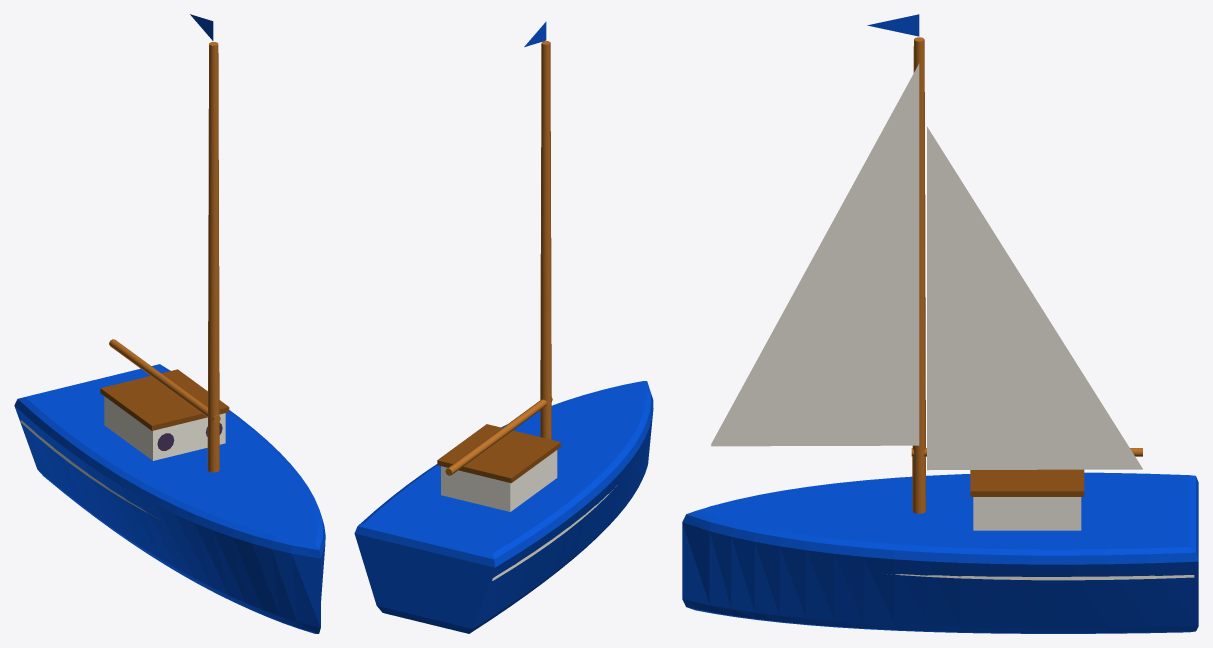
The model's file is voilier-bleu.glb.
The picture shows the model from 3 angles, left to right: view 1: azimuth 30°, elevation 25°; view 2: azimuth 150°, elevation 25°; view 3: azimuth 270°, elevation 25°; orthographic projection. The views are drawn at different scales.
Visible parts, largest first — view 1: coque__bleu, coque__orange, coque__orange_fonce, coque__blanc; view 2: coque__bleu, coque__orange, coque__blanc, coque__orange_fonce; view 3: coque__bleu, grand_voile__blanc, foc__blanc, coque__blanc, coque__orange, coque__orange_fonce.
Boxes of the visible parts, left/top/right/bottom form: coque__bleu: left=14, top=364, right=325, bottom=633; coque__orange: left=109, top=42, right=220, bottom=472; coque__orange_fonce: left=100, top=369, right=229, bottom=430; coque__blanc: left=20, top=396, right=225, bottom=519; coque__bleu: left=354, top=381, right=653, bottom=633; coque__orange: left=445, top=41, right=552, bottom=475; coque__blanc: left=441, top=450, right=617, bottom=580; coque__orange_fonce: left=437, top=424, right=560, bottom=483; coque__bleu: left=682, top=472, right=1198, bottom=633; grand_voile__blanc: left=711, top=63, right=919, bottom=446; foc__blanc: left=927, top=126, right=1142, bottom=470; coque__blanc: left=887, top=497, right=1194, bottom=580; coque__orange: left=911, top=37, right=1142, bottom=513; coque__orange_fonce: left=970, top=469, right=1084, bottom=496.
Size of the model in its own units: 1.28 by 4.2 by 3.3.
